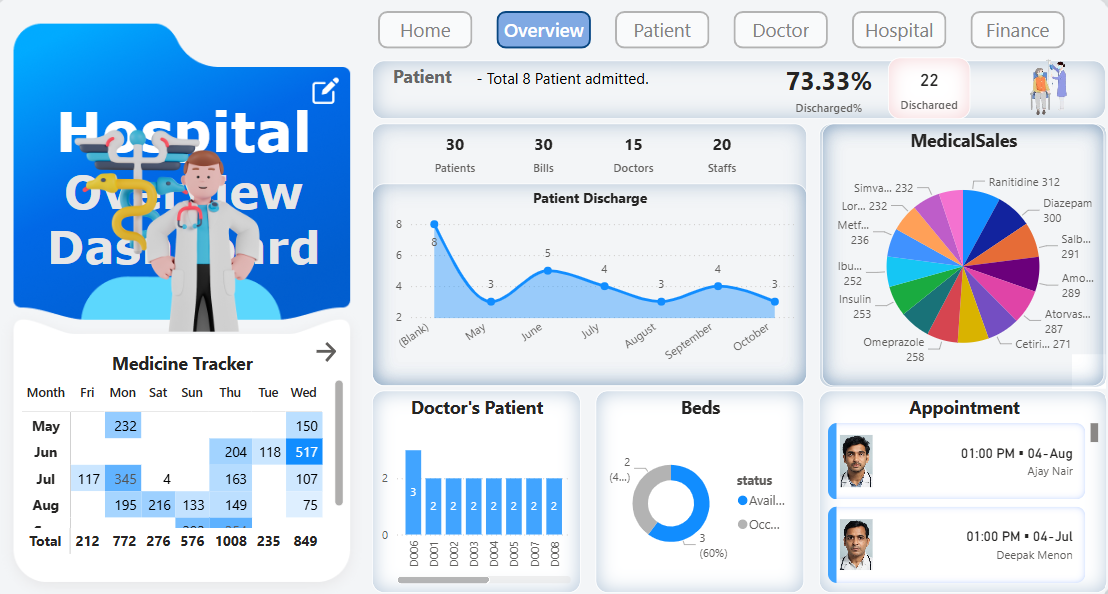

Layout of this report page (visuals, bound fields, positions):
{"tool":"powerbi","page":{"name":"Overview","canvas":[1280,720],"ordinal":1},"visuals":[{"type":"shape","box":[448.6,103.4,777.8,62],"z":0},{"type":"shape","box":[448.6,171.2,461.3,278.4],"z":0,"group":"g1"},{"type":"textbox","box":[76.3,136.8,345.2,200.4],"z":1000},{"type":"image","box":[375.4,116.1,47.7,38.2],"z":2000},{"type":"image","box":[106.1,154.9,255.8,241.9],"z":3000},{"type":"pivotTable","title":"Medicine Tracker","fields":{"Values":["Sum(medicine_patient.qty)"],"Columns":["Calendar.Day"],"Rows":["Calendar.Month"]},"box":[71.6,412,351.5,219.5],"z":4000},{"type":"columnChart","title":"Charges","fields":{"Category":["Bills.Charges_Type"],"Y":["Sum(Bills.Charges)"]},"box":[448.6,453.3,221.1,214.7],"z":5000},{"type":"advancedSlicerVisual","fields":{"Values":["Patient_Data.Surgery_Appointment_Time_Date"]},"box":[922.6,453.3,307,214.7],"z":6000},{"type":"actionButton","box":[381.7,392.9,35,39.8],"z":7000},{"type":"actionButton","title":"Home","box":[454.9,50.3,100.2,39.8],"z":8000},{"type":"actionButton","box":[831.9,50.3,100.2,39.8],"z":9000},{"type":"actionButton","box":[957.5,50.3,100.2,39.8],"z":10000},{"type":"actionButton","box":[1083.2,50.3,100.2,39.8],"z":11000},{"type":"actionButton","box":[706.2,50.3,100.2,39.8],"z":12000},{"type":"actionButton","box":[580.6,50.3,100.2,39.8],"z":13000},{"type":"card","fields":{"Values":["Count(Patient_Data.Patient_ID)"]},"box":[496.3,169.2,80,65],"z":14000,"group":"g1"},{"type":"shape","box":[922.6,169.8,307,279.9],"z":14000},{"type":"card","fields":{"Values":["_Measures.Discharged%"]},"box":[870.1,100.2,125.7,65.2],"z":15000},{"type":"card","fields":{"Values":["Count(Patient_Data.Doctor_ID)"]},"box":[685.1,169.2,80,65],"z":15000,"group":"g1"},{"type":"card","fields":{"Values":["_Measures.Discharged_patient"]},"box":[995.7,100.2,87.5,65.2],"z":16000},{"type":"card","fields":{"Values":["Count(Staff.staff_id)"]},"box":[779.5,169.2,80,65],"z":16000,"group":"g1"},{"type":"group","id":"g1","title":"Group 1","box":[448.6,169.2,461.3,280.4],"z":17000},{"type":"card","fields":{"Values":["Count(Bills.bill_id)"]},"box":[590.7,169.2,80,65],"z":17000,"group":"g1"},{"type":"pieChart","title":"MedicalSales","fields":{"Y":["_Measures.Total_Sales_Qty"],"Category":["Medical_Stock_Data.Medicine_Name"]},"box":[925.7,169.8,299,278.4],"z":18000},{"type":"areaChart","title":"Patient Discharge","fields":{"Category":["Patient_Data.Patient_Discharge_Date.Variation.Date Hierarchy.Month"],"Y":["Count(Patient_Data.Patient_ID)"]},"box":[448.6,234.8,461.3,214.7],"z":18000,"group":"g1"},{"type":"shape","box":[448.6,105,106.6,30.2],"z":19000},{"type":"shape","box":[536,106.6,229,30.2],"z":20000},{"type":"image","box":[1132.5,90.7,66.8,81.1],"z":21000},{"type":"donutChart","title":"Beds","fields":{"Y":["Count(Bed_Data.bed)"],"Category":["Bed_Data.status"]},"box":[685.6,453.3,221.1,214.7],"z":22000}]}

Visuals, with their boxes on the page's 1280x720 design canvas (x1, y1, x2, y2). These are canvas units, not pixel positions in the 1108x594 screenshot, which may show the page scaled, cropped or inside an application window:
shape: crop(449, 103, 1226, 165)
shape: crop(449, 171, 910, 450)
textbox: crop(76, 137, 422, 337)
image: crop(375, 116, 423, 154)
image: crop(106, 155, 362, 397)
"Medicine Tracker" pivotTable: crop(72, 412, 423, 632)
"Charges" columnChart: crop(449, 453, 670, 668)
advancedSlicerVisual - Patient_Data.Surgery_Appointment_Time_Date: crop(923, 453, 1230, 668)
actionButton: crop(382, 393, 417, 433)
"Home" actionButton: crop(455, 50, 555, 90)
actionButton: crop(832, 50, 932, 90)
actionButton: crop(958, 50, 1058, 90)
actionButton: crop(1083, 50, 1183, 90)
actionButton: crop(706, 50, 806, 90)
actionButton: crop(581, 50, 681, 90)
card - Count(Patient_Data.Patient_ID): crop(496, 169, 576, 234)
shape: crop(923, 170, 1230, 450)
card - _Measures.Discharged%: crop(870, 100, 996, 165)
card - Count(Patient_Data.Doctor_ID): crop(685, 169, 765, 234)
card - _Measures.Discharged_patient: crop(996, 100, 1083, 165)
card - Count(Staff.staff_id): crop(780, 169, 860, 234)
"Group 1" group: crop(449, 169, 910, 450)
card - Count(Bills.bill_id): crop(591, 169, 671, 234)
"MedicalSales" pieChart: crop(926, 170, 1225, 448)
"Patient Discharge" areaChart: crop(449, 235, 910, 450)
shape: crop(449, 105, 555, 135)
shape: crop(536, 107, 765, 137)
image: crop(1132, 91, 1199, 172)
"Beds" donutChart: crop(686, 453, 907, 668)
